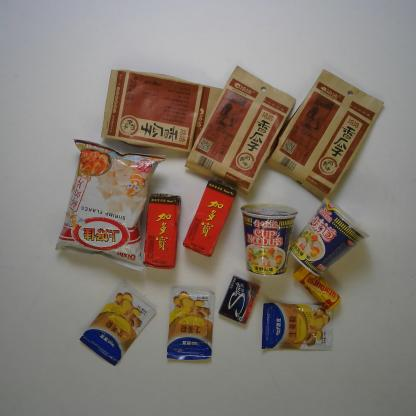Candy: (293, 266, 341, 309)
Dried Food: (267, 67, 381, 203), (183, 63, 296, 197), (98, 68, 228, 155)
Drink: (182, 176, 239, 257), (143, 193, 180, 270)
Gum: (218, 276, 262, 326)
Instant Noodles: (291, 198, 367, 278), (241, 204, 299, 276)
Puffed Food: (55, 138, 158, 271)
Seasoner: (78, 278, 158, 367), (164, 284, 216, 362), (261, 300, 335, 352)
